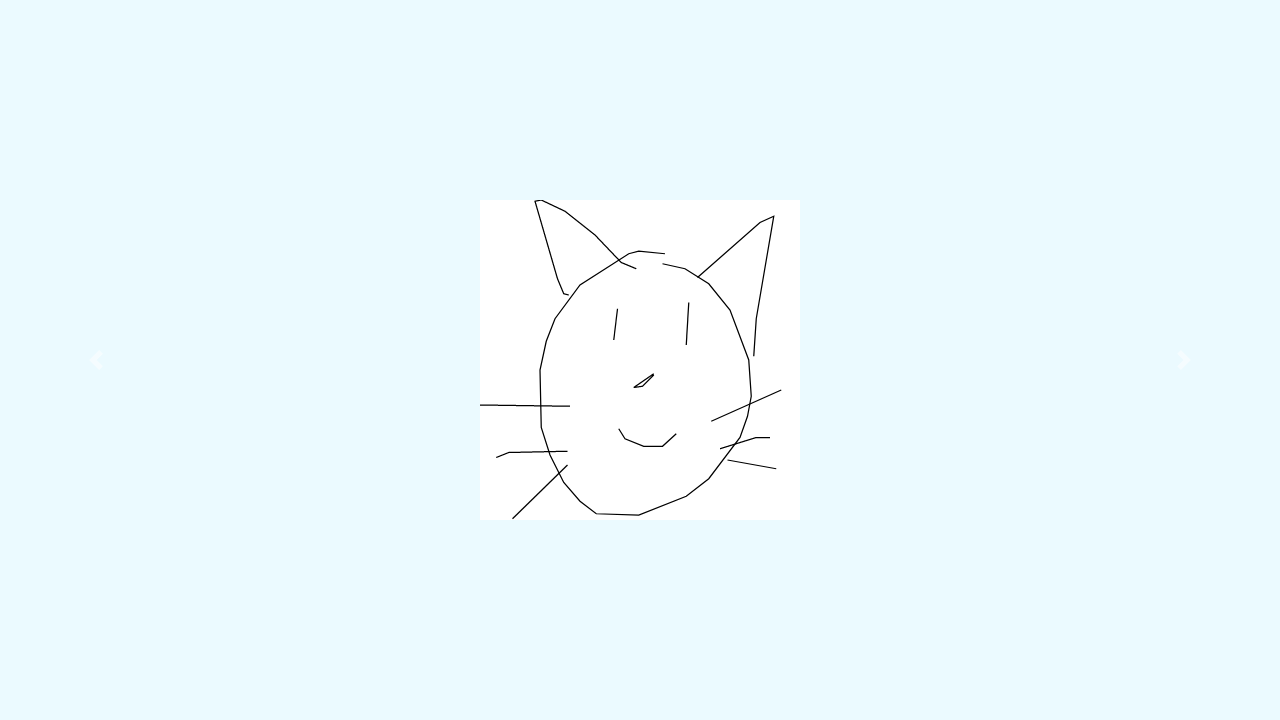cat: (470, 194, 783, 537)
